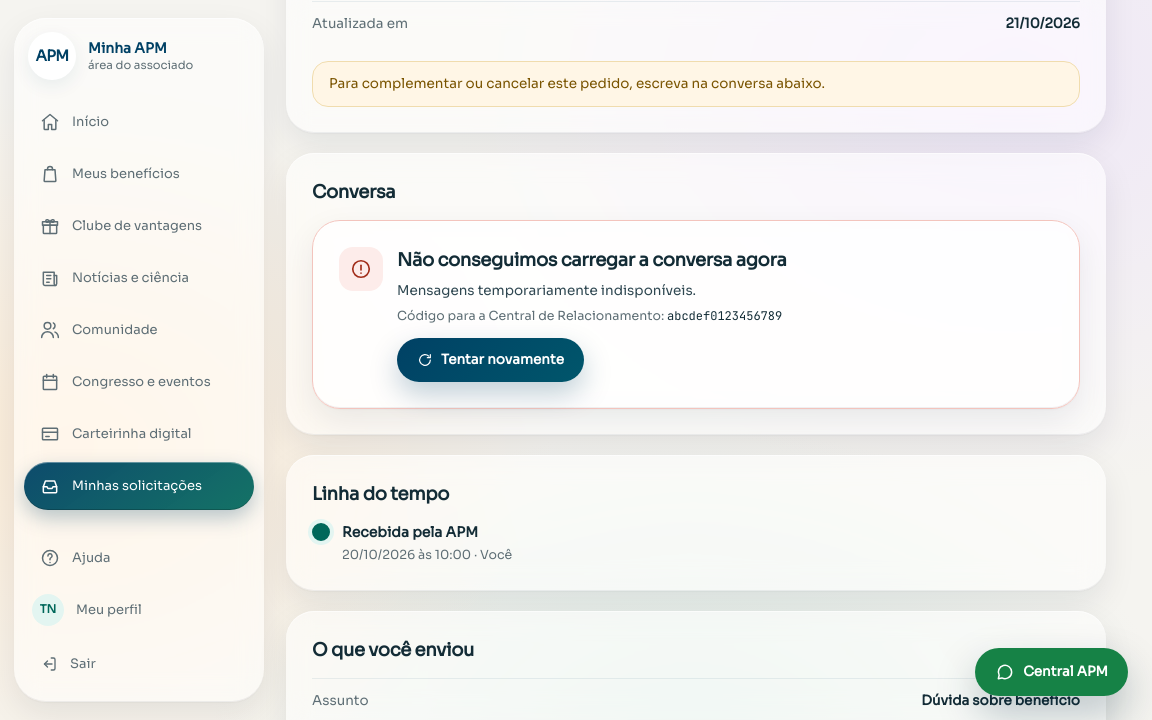
Test case: Minhas solicitações com a paridade ligada › erro ao carregar a conversa não derruba o detalhe
(page scrolled)
Expected: the heading "Não conseguimos carregar a conversa agora" is shown, x1=397 y1=249 x2=786 y2=271
Click the button "Tentar novamente" at (490, 360), box x1=397 y1=338 x2=584 y2=382
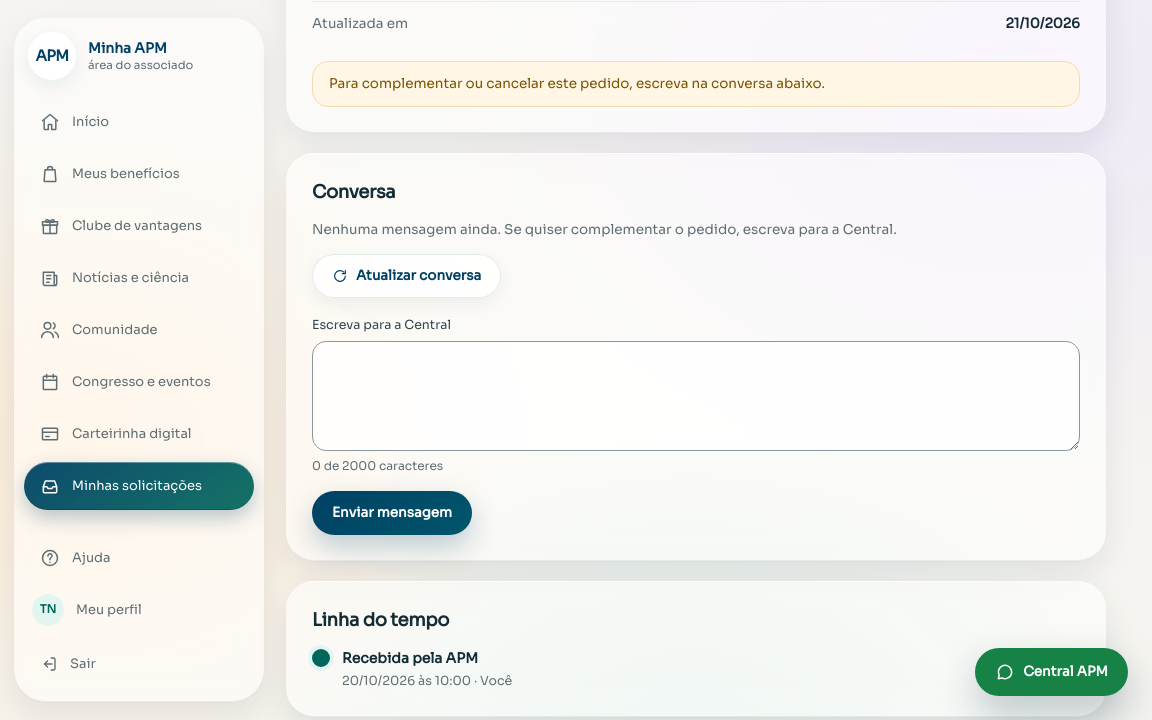
Result: the text box labelled "Escreva para a Central" is shown at x1=312 y1=341 x2=1080 y2=451
